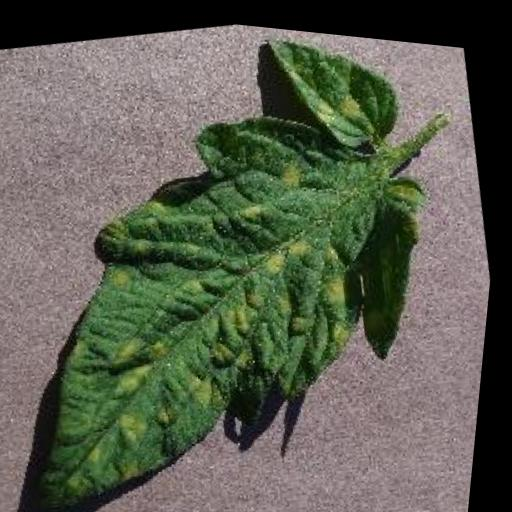Leaf Mold: (0, 0, 498, 512)
